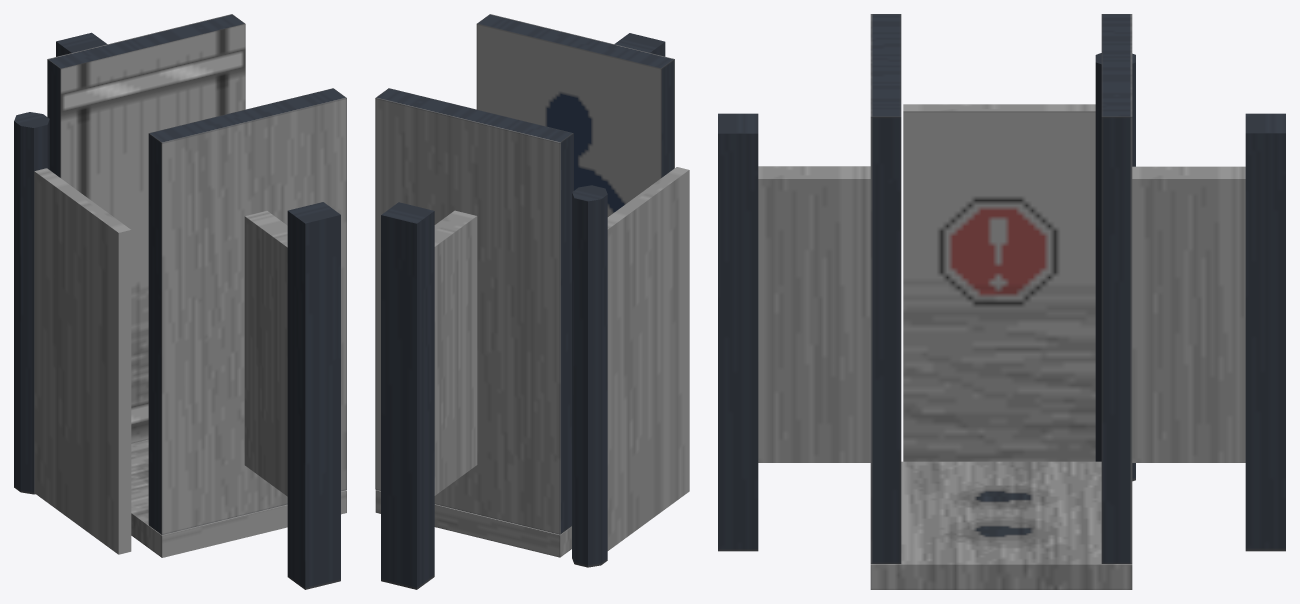
Rendered from obj_scanner.fbx.
3 views of the same model, side by side, from view 1: azimuth 30°, elevation 25°; view 2: azimuth 150°, elevation 25°; view 3: azimuth 270°, elevation 25° (orthographic). The views are drawn at different scales.
Parts seen in each view (by area): view 1: obj_scanner, obj_scanner_door, obj_scanner_ground; view 2: obj_scanner, obj_scanner_door, obj_scanner_ground; view 3: obj_scanner, obj_scanner_door, obj_scanner_ground.
Boxes of the visible parts, left/top/right/bottom form: obj_scanner: left=47, top=14, right=346, bottom=589; obj_scanner_door: left=14, top=112, right=131, bottom=554; obj_scanner_ground: left=131, top=439, right=346, bottom=557; obj_scanner: left=375, top=14, right=674, bottom=589; obj_scanner_door: left=572, top=167, right=689, bottom=567; obj_scanner_ground: left=375, top=490, right=571, bottom=557; obj_scanner: left=718, top=14, right=1285, bottom=563; obj_scanner_door: left=903, top=53, right=1135, bottom=481; obj_scanner_ground: left=870, top=461, right=1132, bottom=589.
Bounding box in the file's own units: 111 × 200 × 216.
